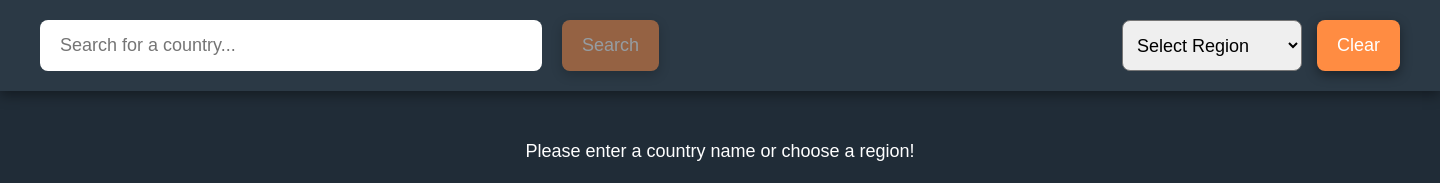
App Component › displays error message on fetch failure
Type "-999" into the field with test id "search-input" at (291, 46), box [40, 20, 542, 71]
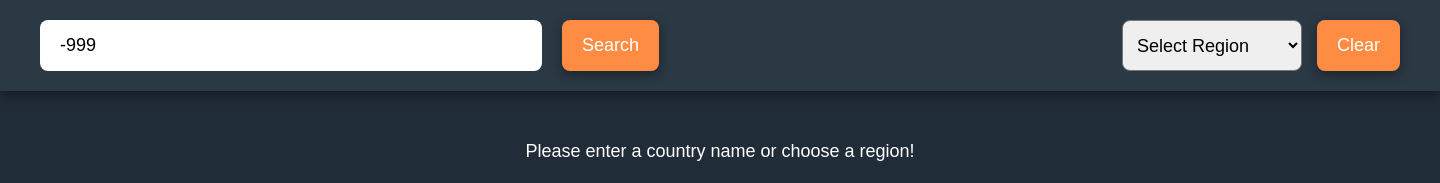
Click the button with test id "search-button" at (610, 46), box [562, 20, 659, 71]
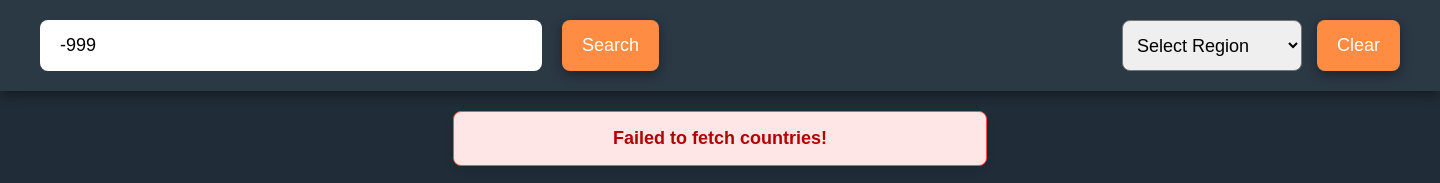
Result: the text "Failed to fetch countries!" is shown at [613, 128, 827, 148]
